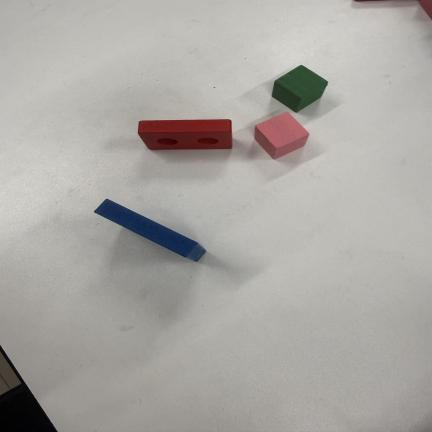BuildingBlocks: (95, 200, 205, 261), (138, 119, 232, 150), (272, 66, 327, 112), (255, 113, 309, 158), (420, 0, 431, 18)
